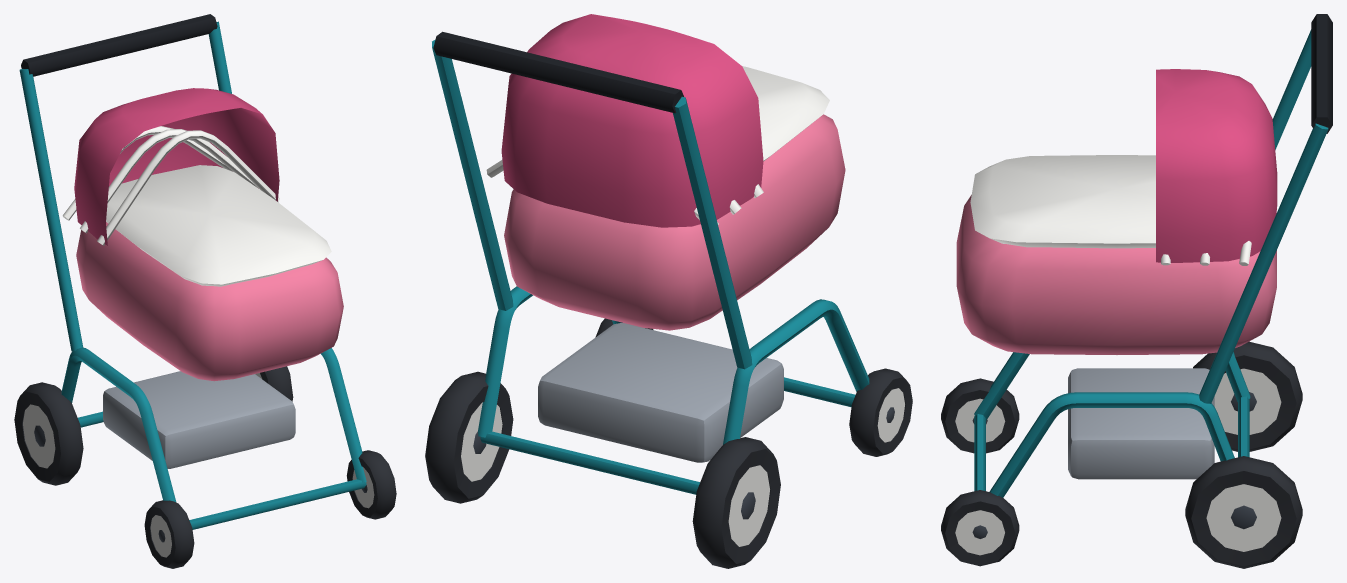
The model's file is carrinho_bebe_rosa.glb.
3 renders of one model, left to right at view 1: azimuth 30°, elevation 25°; view 2: azimuth 150°, elevation 25°; view 3: azimuth 270°, elevation 25°, orthographic. The views are drawn at different scales.
Visible parts, largest first — view 1: carrinho_bebe_rosa, roda_traseira_esq, roda_dianteira_esq, roda_dianteira_dir, roda_traseira_dir; view 2: carrinho_bebe_rosa, roda_traseira_esq, roda_traseira_dir, roda_dianteira_esq; view 3: carrinho_bebe_rosa, roda_traseira_dir, roda_traseira_esq, roda_dianteira_dir, roda_dianteira_esq.
Boxes of the visible parts, x1,y1,x2,y2 form: carrinho_bebe_rosa: (19, 14, 366, 529); roda_traseira_esq: (14, 382, 83, 485); roda_dianteira_esq: (144, 500, 194, 568); roda_dianteira_dir: (346, 450, 396, 519); roda_traseira_dir: (255, 366, 293, 401); carrinho_bebe_rosa: (432, 14, 869, 494); roda_traseira_esq: (692, 437, 780, 568); roda_traseira_dir: (425, 371, 513, 503); roda_dianteira_esq: (849, 368, 912, 456); carrinho_bebe_rosa: (956, 14, 1332, 497); roda_traseira_dir: (1185, 456, 1302, 568); roda_traseira_esq: (1193, 341, 1302, 451); roda_dianteira_dir: (941, 490, 1019, 566); roda_dianteira_esq: (941, 378, 1019, 453).
Size of the model in its own units: 0.62 by 0.9991 by 0.802.
Materials: 1 (1 with a texture image).
